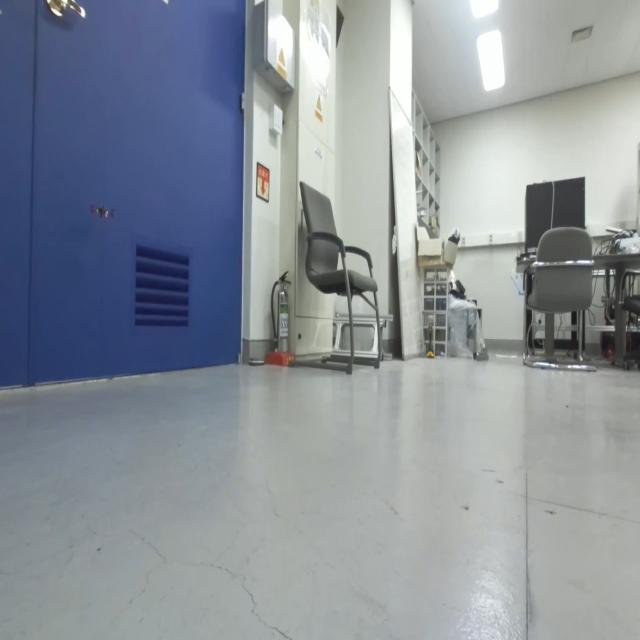crazyflie: (85, 195, 122, 232)
